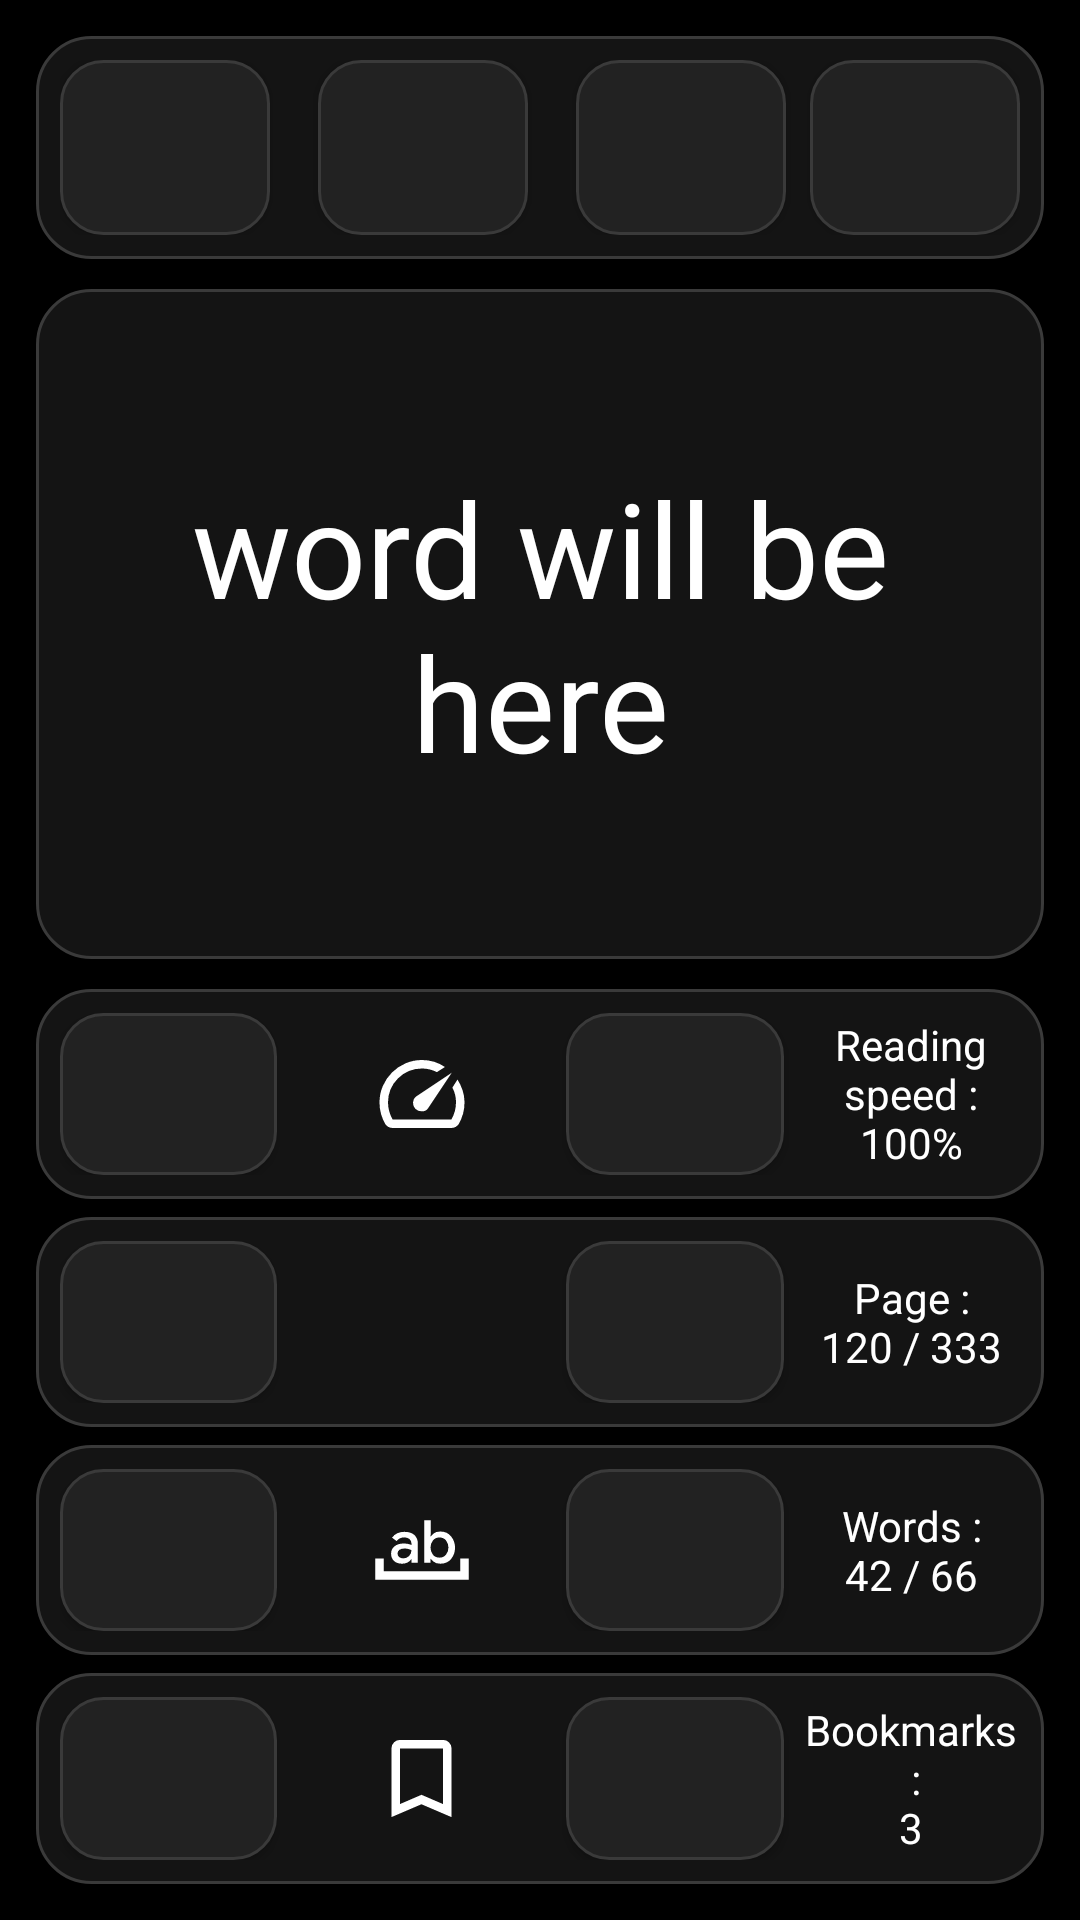

Point at icon controls on the screen. Image size 1080*1920, points as (x=x, y=y).
bookmark: (x=421, y=1778)
reading speed: (x=422, y=1094)
word: (x=422, y=1550)
